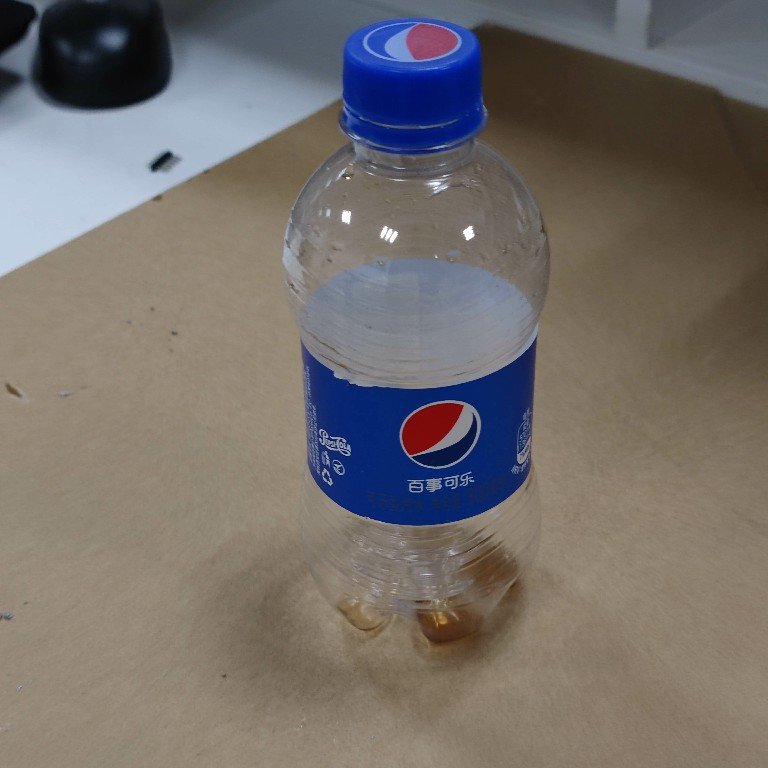bottle: (278, 13, 553, 649)
